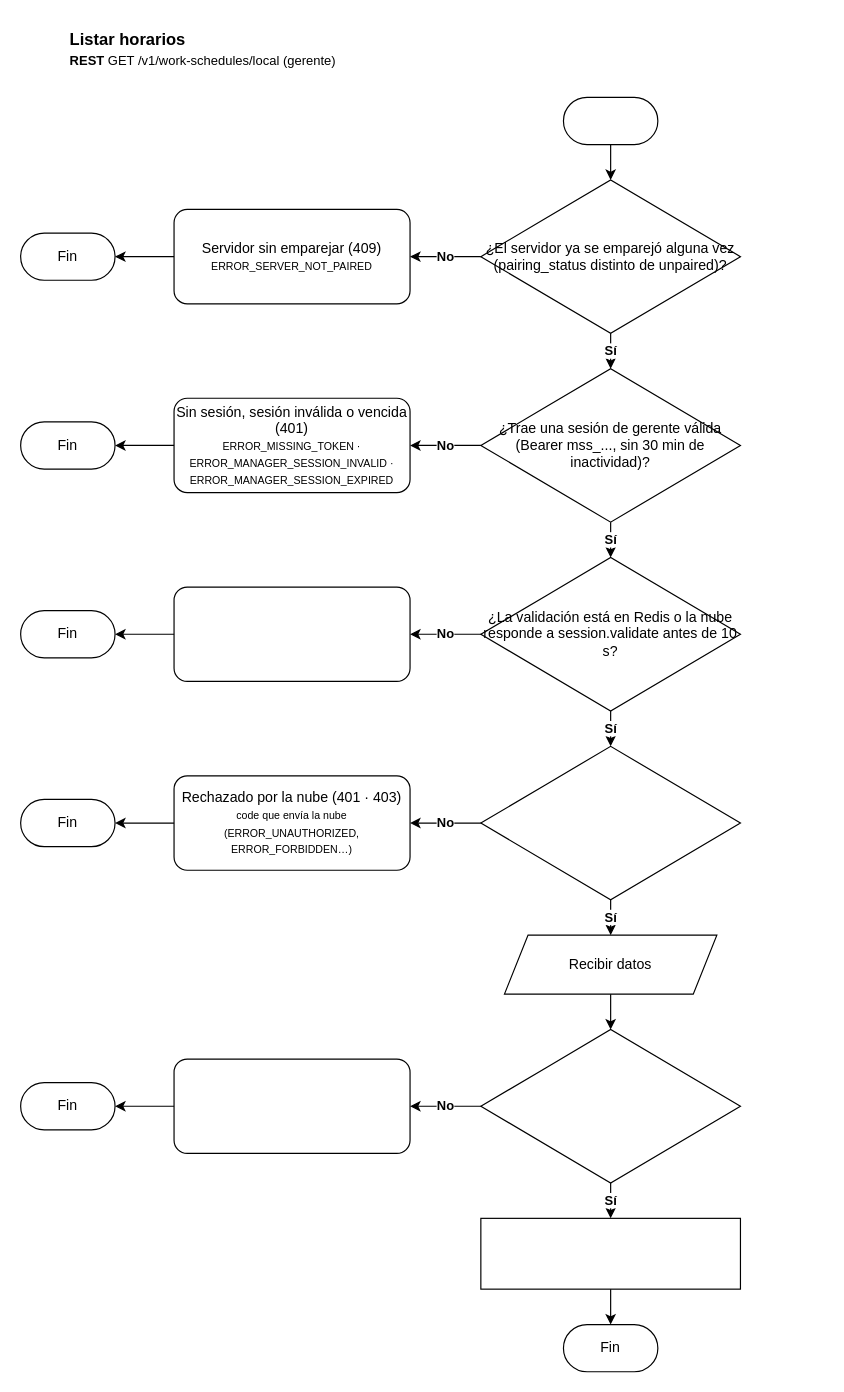
Some shapes in this 844 by 1392 pixel diagram are drawn without their labels. Each missing label, with the centre of its shape:
Datos inválidos (400) ERROR_BAD_REQUEST: pixel 291 1105
Inicio: pixel 610 120
La nube no responde (503) ERROR_CLOUD_UNAVAILABLE · ERROR_SERVER_UNLINKED: pixel 291 633
Responder 200 con el mensaje WORK_SCHEDULES_RETRIEVED: pixel 610 1253
¿La nube acepta la sesión del gerente con este servidor?: pixel 610 822
¿Los datos son válidos?: pixel 610 1105
